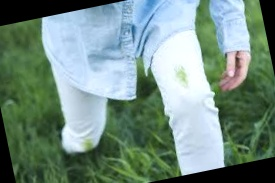earth: (174, 65, 188, 89), (80, 137, 95, 150)
